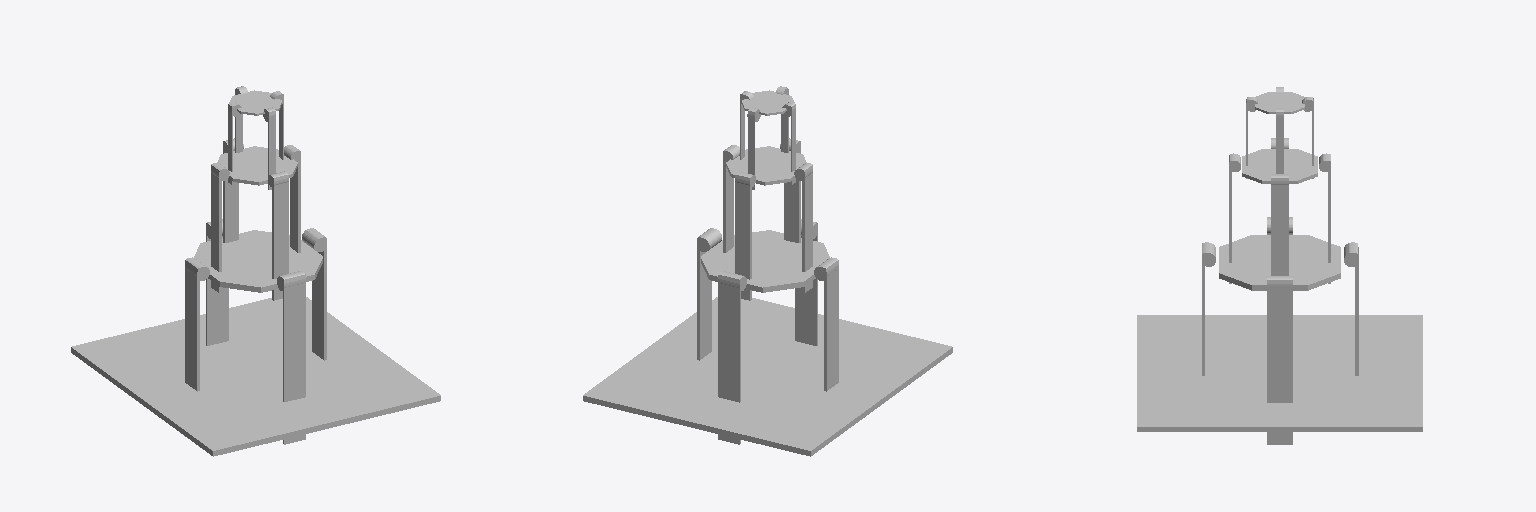
The model's file is WaterFountain.obj.
3 views of the same model, side by side, from view 1: azimuth 30°, elevation 25°; view 2: azimuth 150°, elevation 25°; view 3: azimuth 270°, elevation 25° (orthographic).
Parts seen in each view (by area): view 1: Cylinder.024_Cylinder.025; view 2: Cylinder.024_Cylinder.025; view 3: Cylinder.024_Cylinder.025.
Boxes of the visible parts, x1,y1,x2,y2 form: Cylinder.024_Cylinder.025: [71, 86, 440, 456]; Cylinder.024_Cylinder.025: [583, 86, 952, 456]; Cylinder.024_Cylinder.025: [1137, 87, 1422, 444].
Size of the model in its own units: 1.61 by 2.12 by 1.74.